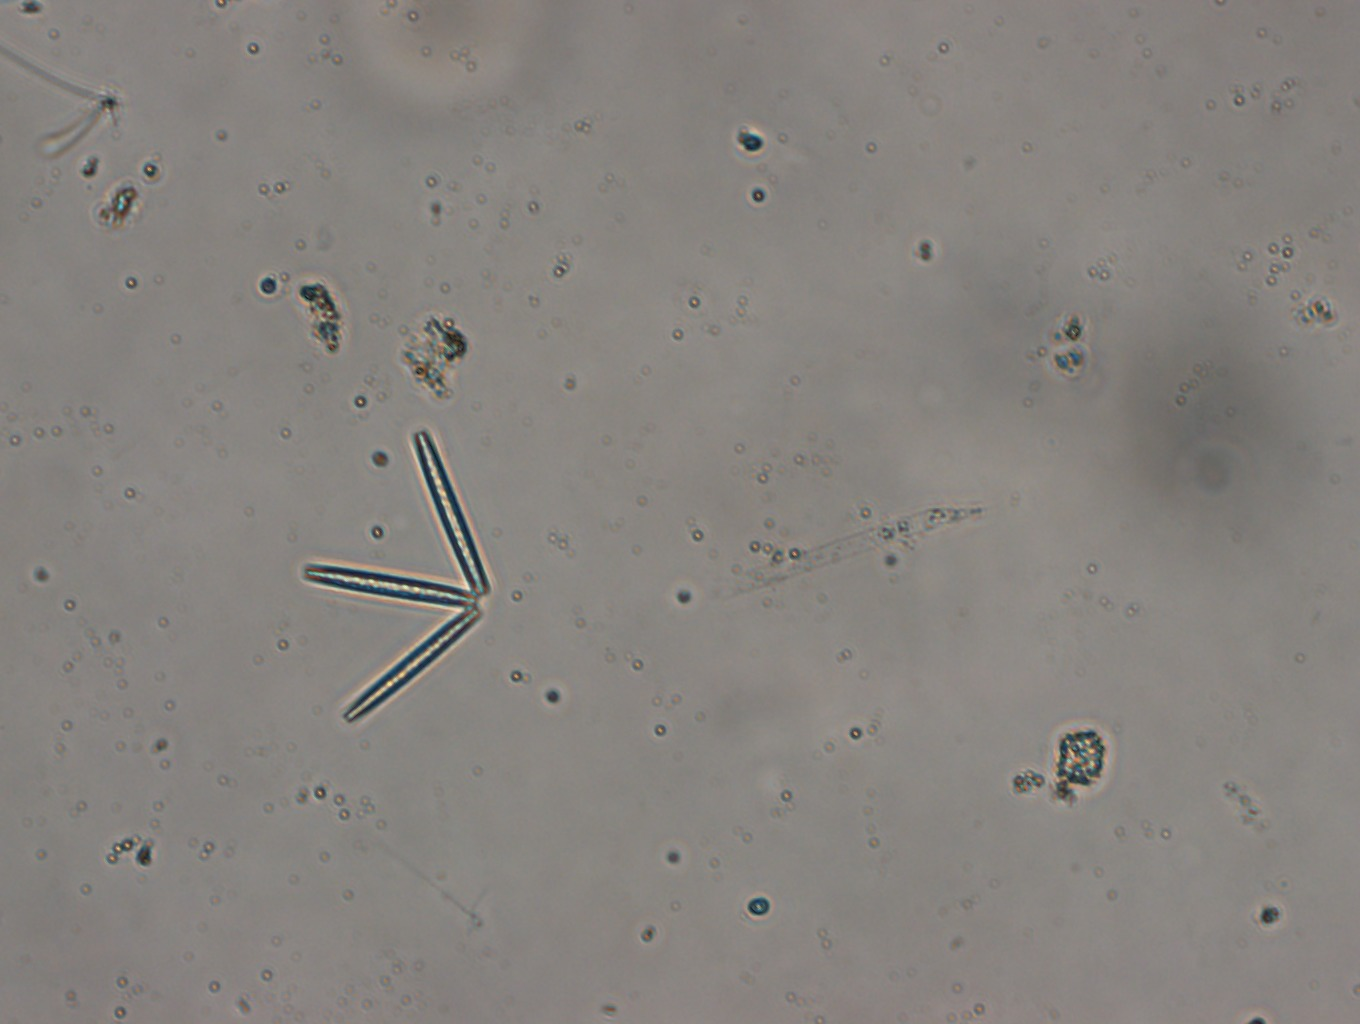thalassionema nitzschioides: (296, 424, 499, 724)
